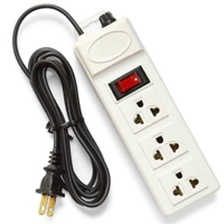three_eye_plug: (70, 13, 221, 220)
